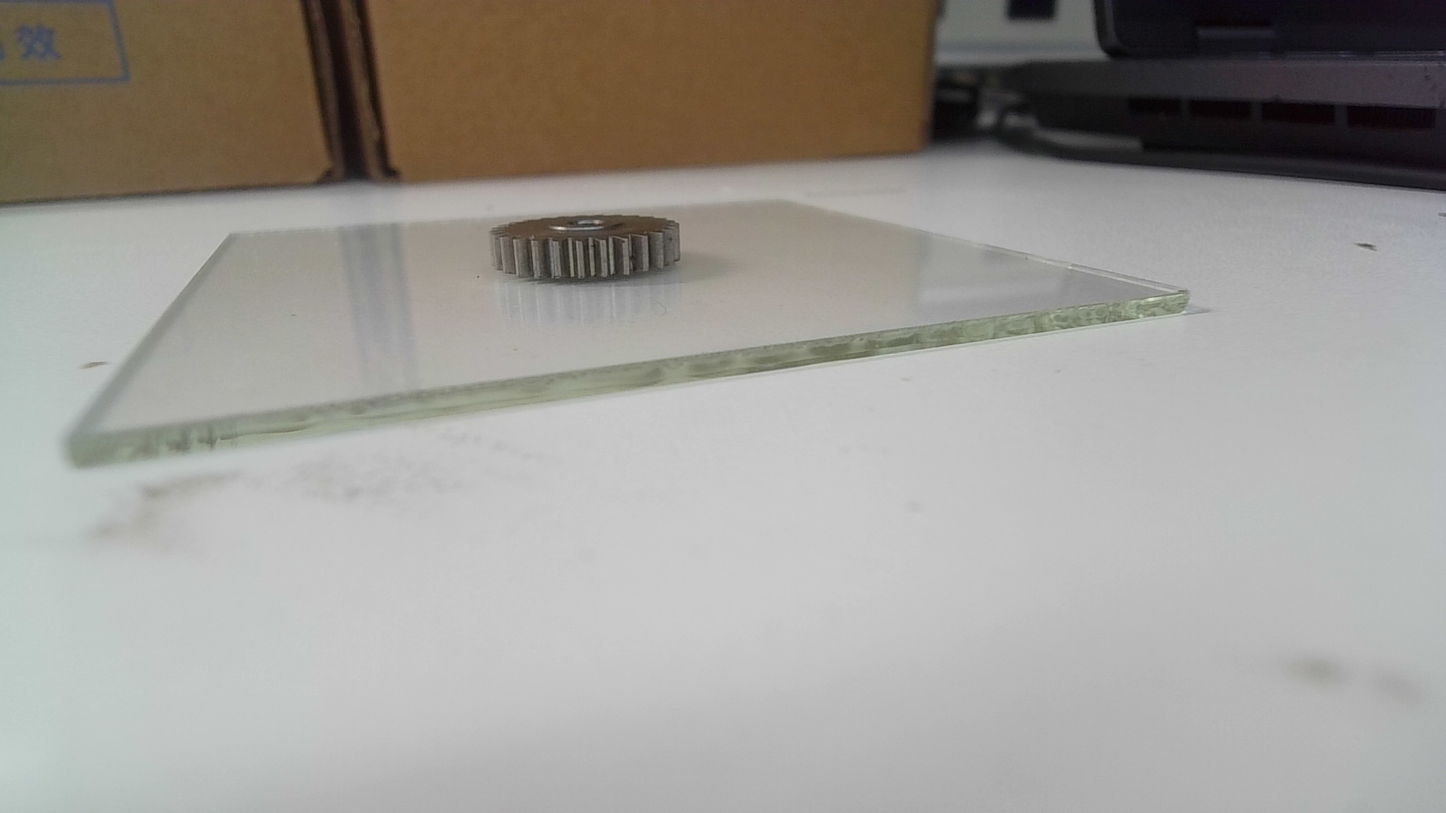gear: (485, 209, 685, 284)
